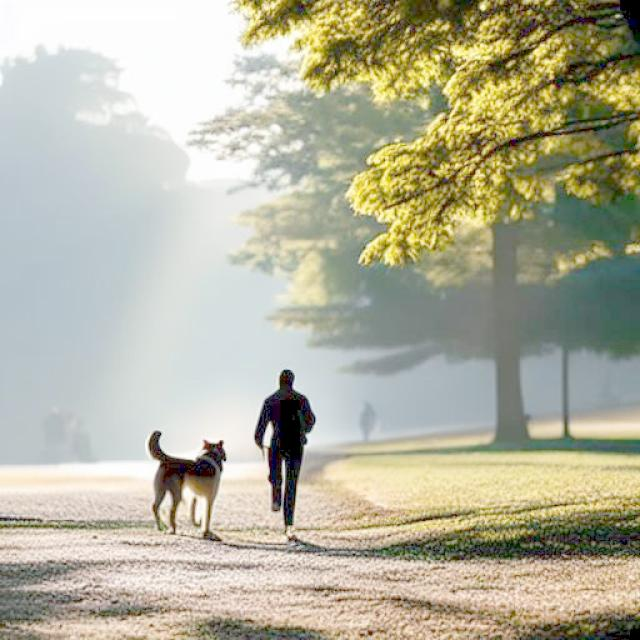Unleashed_Dog: (146, 429, 296, 540)
